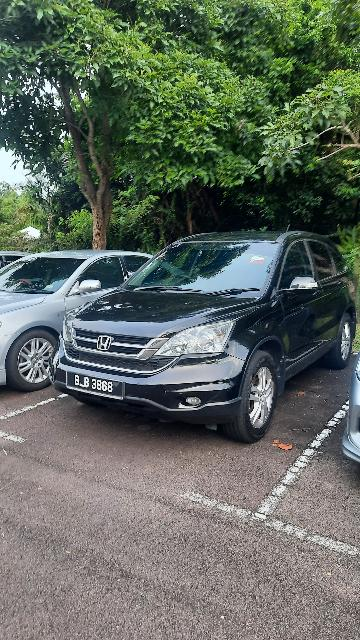License_Plate: (64, 369, 128, 401)
car: (60, 232, 357, 441)
